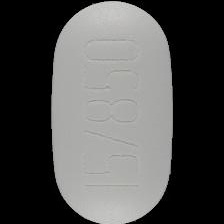0093-5050: (0, 0, 224, 224)
